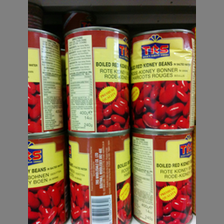beans: (63, 27, 128, 131), (132, 29, 195, 131), (67, 134, 131, 222), (133, 134, 195, 224)
